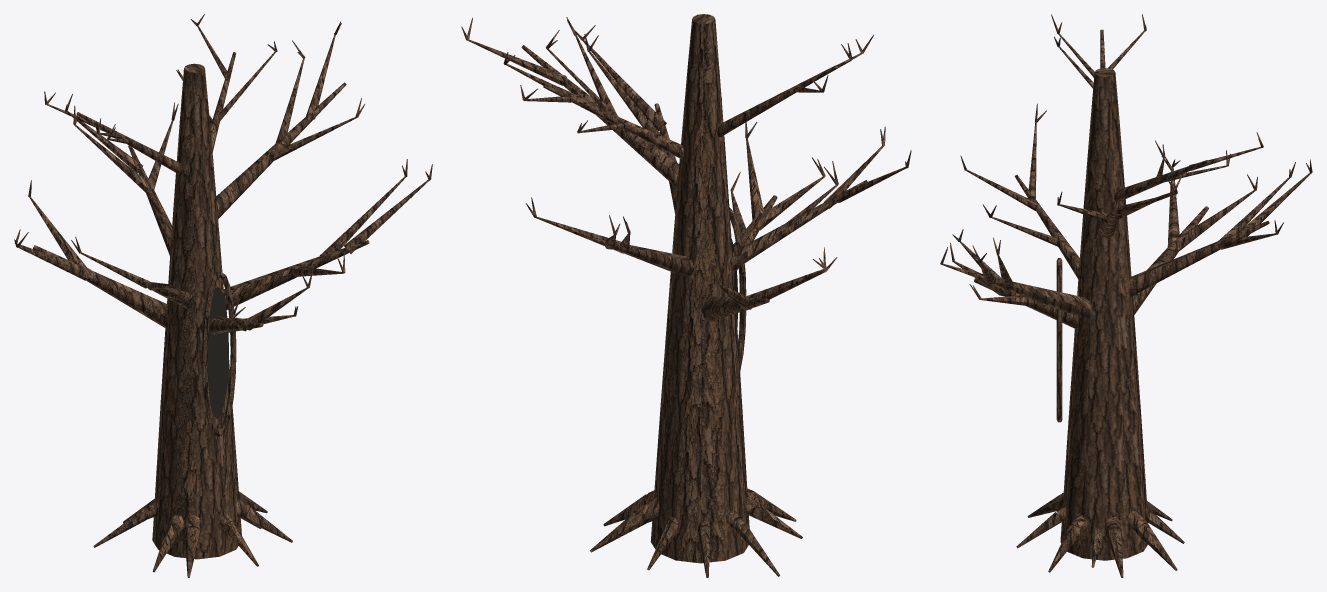
File: hollow-snag-v01.glb
3 renders of one model, left to right at view 1: azimuth 30°, elevation 25°; view 2: azimuth 150°, elevation 25°; view 3: azimuth 270°, elevation 25°, orthographic. The views are drawn at different scales.
Visible parts, largest first — view 1: dead-tree-hollow; view 2: dead-tree-hollow; view 3: dead-tree-hollow.
Part boxes in pixels (x1=…): dead-tree-hollow: x1=14, y1=14, x2=432, y2=577; dead-tree-hollow: x1=461, y1=14, x2=911, y2=577; dead-tree-hollow: x1=940, y1=14, x2=1312, y2=577.
Bounding box in the file's own units: 5.96 × 8.01 × 5.76.
2 materials, 1 textured.
